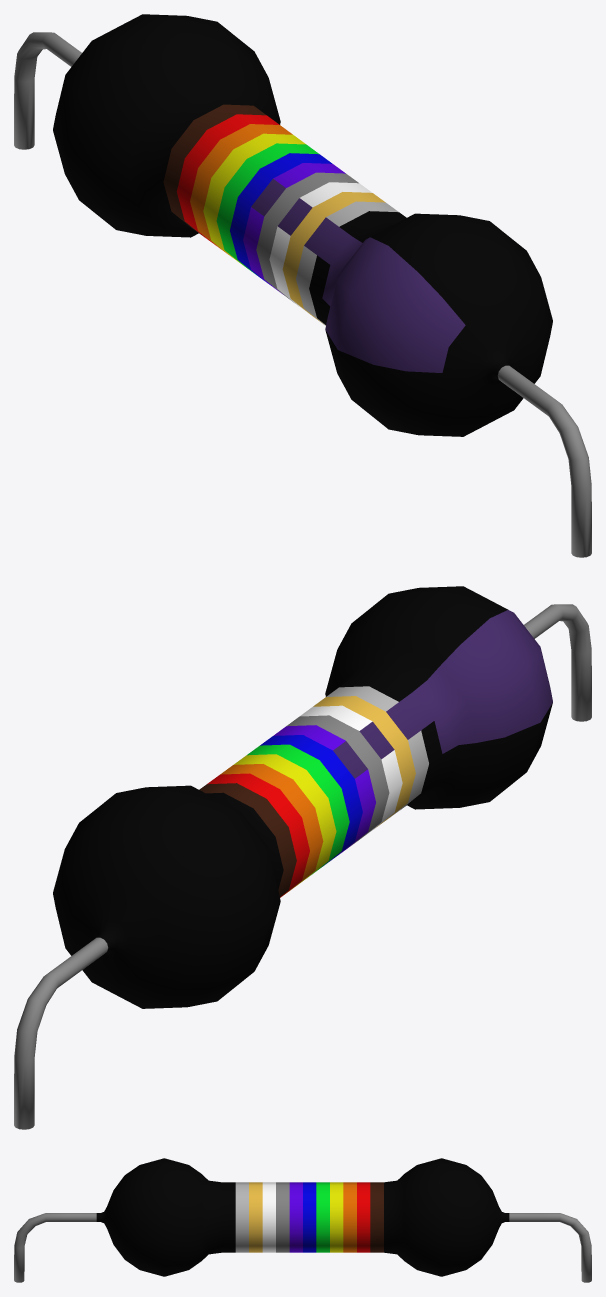
File: rezystor_paski_zesputy.fbx
The picture shows the model from 3 angles, top to bottom: view 1: azimuth 30°, elevation 25°; view 2: azimuth 150°, elevation 25°; view 3: azimuth 270°, elevation 25°; orthographic projection. The views are drawn at different scales.
Visible parts, largest first — view 1: rezystor_paski_zesputy; view 2: rezystor_paski_zesputy; view 3: rezystor_paski_zesputy.
Boxes of the visible parts, box(x1,y1,x2,y2) form: rezystor_paski_zesputy: box(14, 14, 591, 557); rezystor_paski_zesputy: box(14, 586, 591, 1129); rezystor_paski_zesputy: box(14, 1158, 591, 1282).
Size of the model in its own units: 338 by 367 by 1641.
